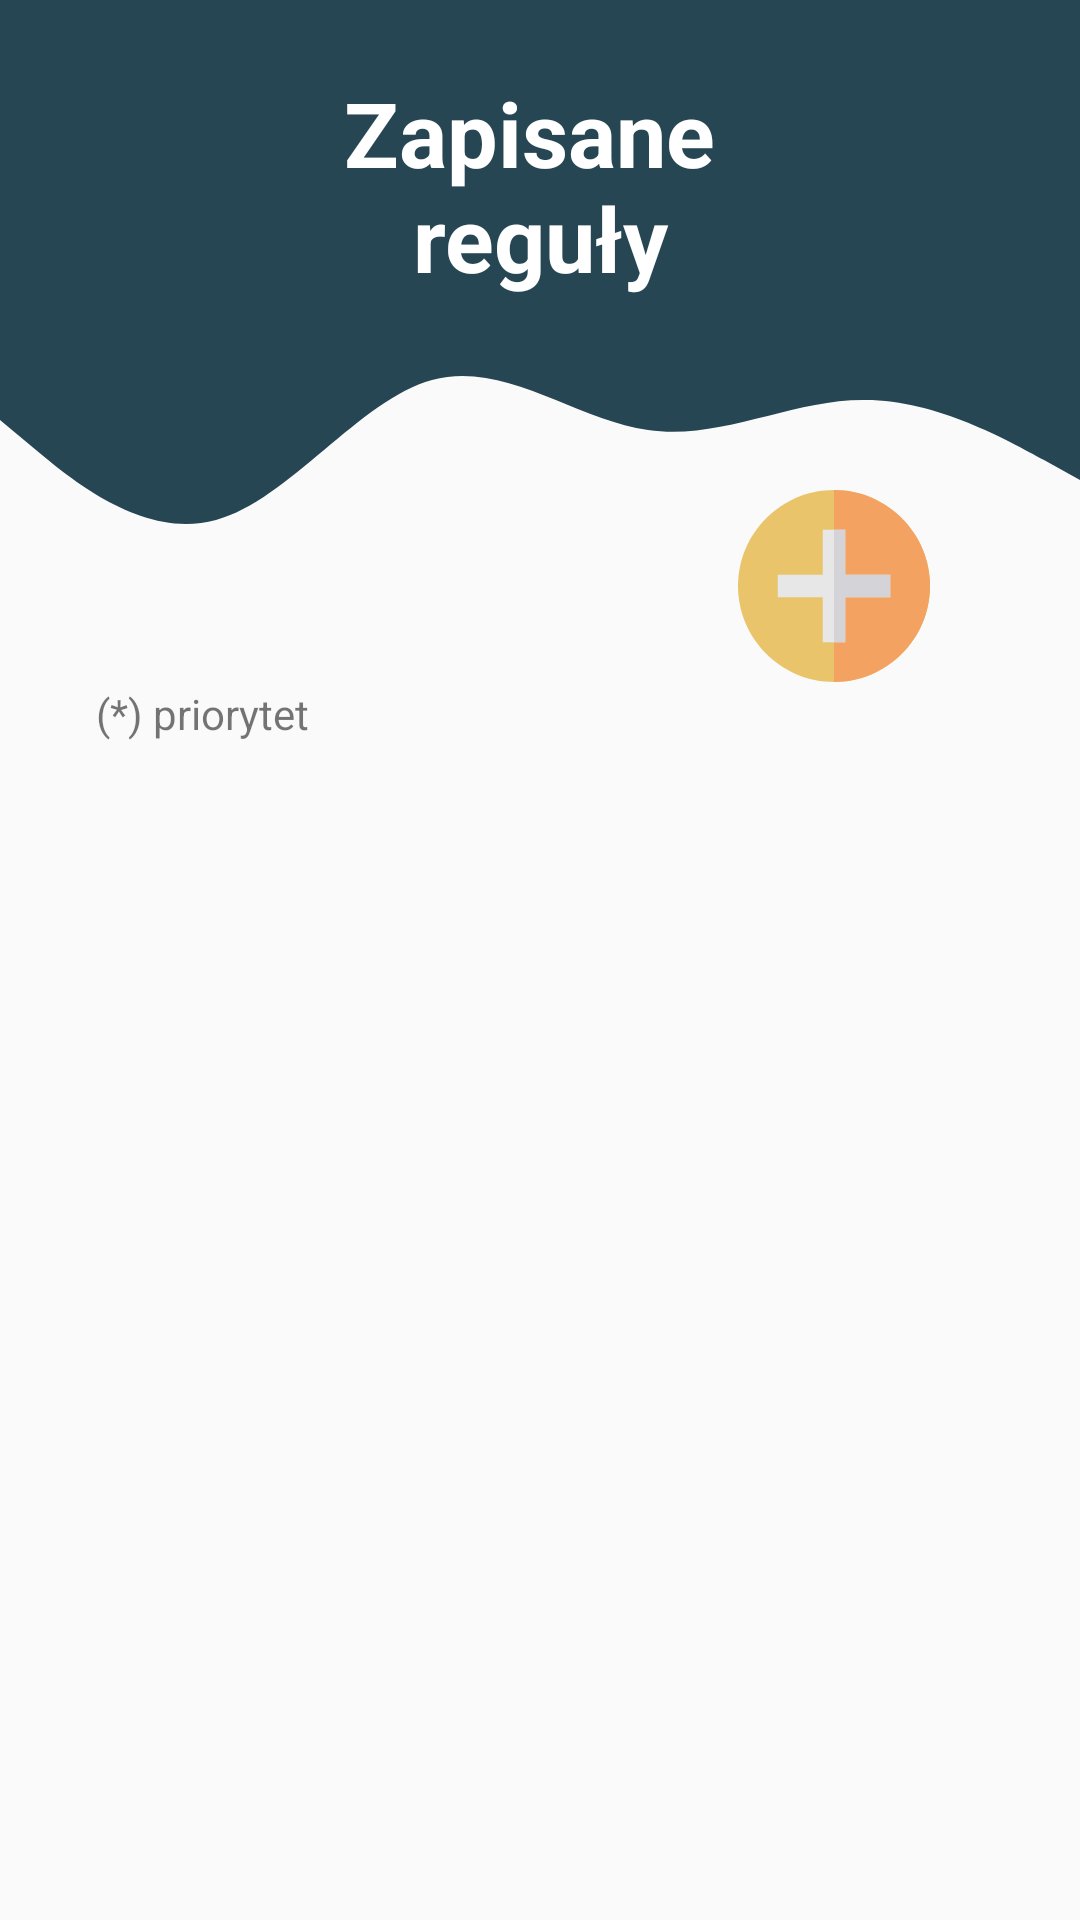

Icons on this 1080w x 1920h Android screen, each with the point to tap as (x=x, y=y):
add: (x=834, y=586)
